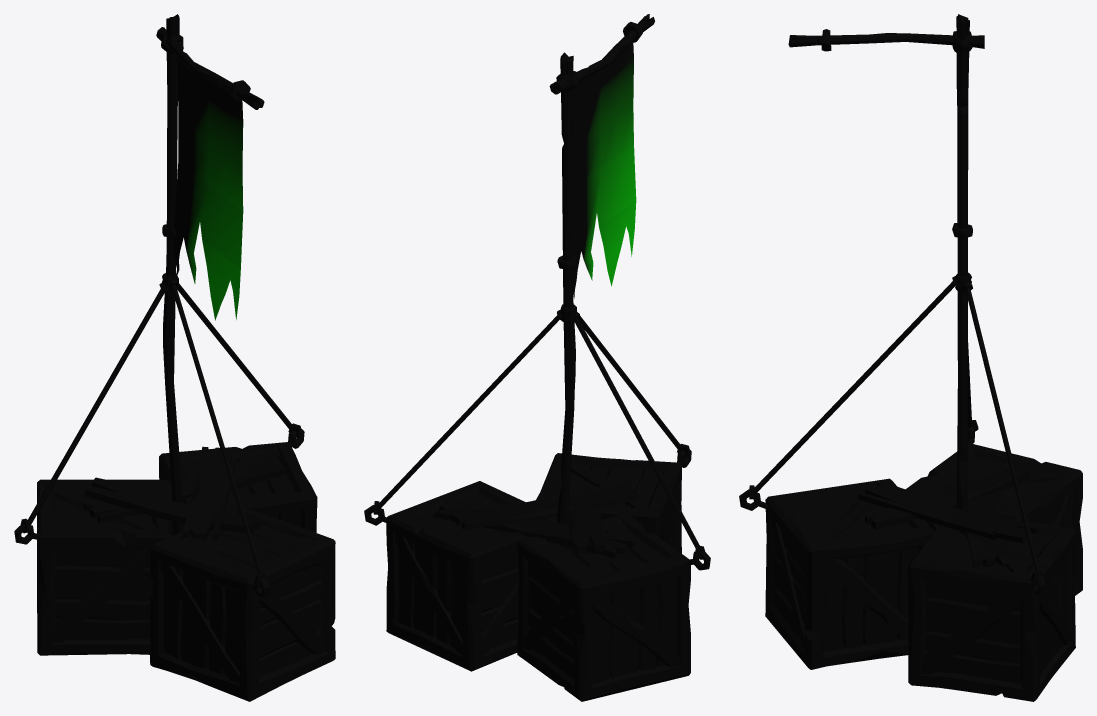
The model's file is SM_Prop_PirateFlag_01.gltf.
3 views of the same model, side by side, from view 1: azimuth 30°, elevation 25°; view 2: azimuth 150°, elevation 25°; view 3: azimuth 270°, elevation 25° (orthographic). The views are drawn at different scales.
Parts seen in each view (by area): view 1: SM_Prop_PirateFlag_01; view 2: SM_Prop_PirateFlag_01; view 3: SM_Prop_PirateFlag_01.
Boxes of the visible parts, x1,y1,x2,y2 form: SM_Prop_PirateFlag_01: (14, 14, 335, 701); SM_Prop_PirateFlag_01: (364, 14, 710, 701); SM_Prop_PirateFlag_01: (739, 14, 1082, 701).
Size of the model in its own units: 2.99 by 5.41 by 2.73.
